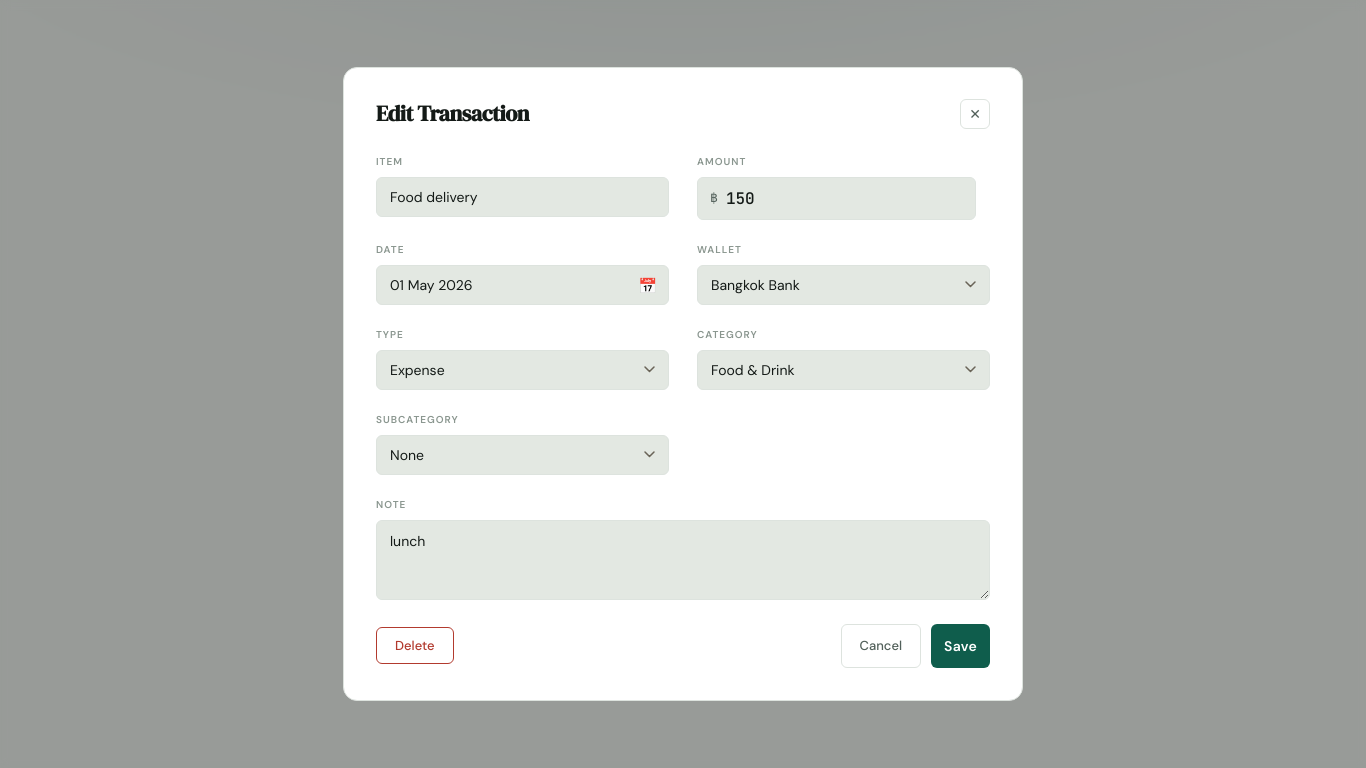
Scenario: shows delete confirmation when Delete is clicked
This screenshot has width=1366, height=768.
Click the button "Delete". click: x=415, y=646
box: [376,627,454,664]
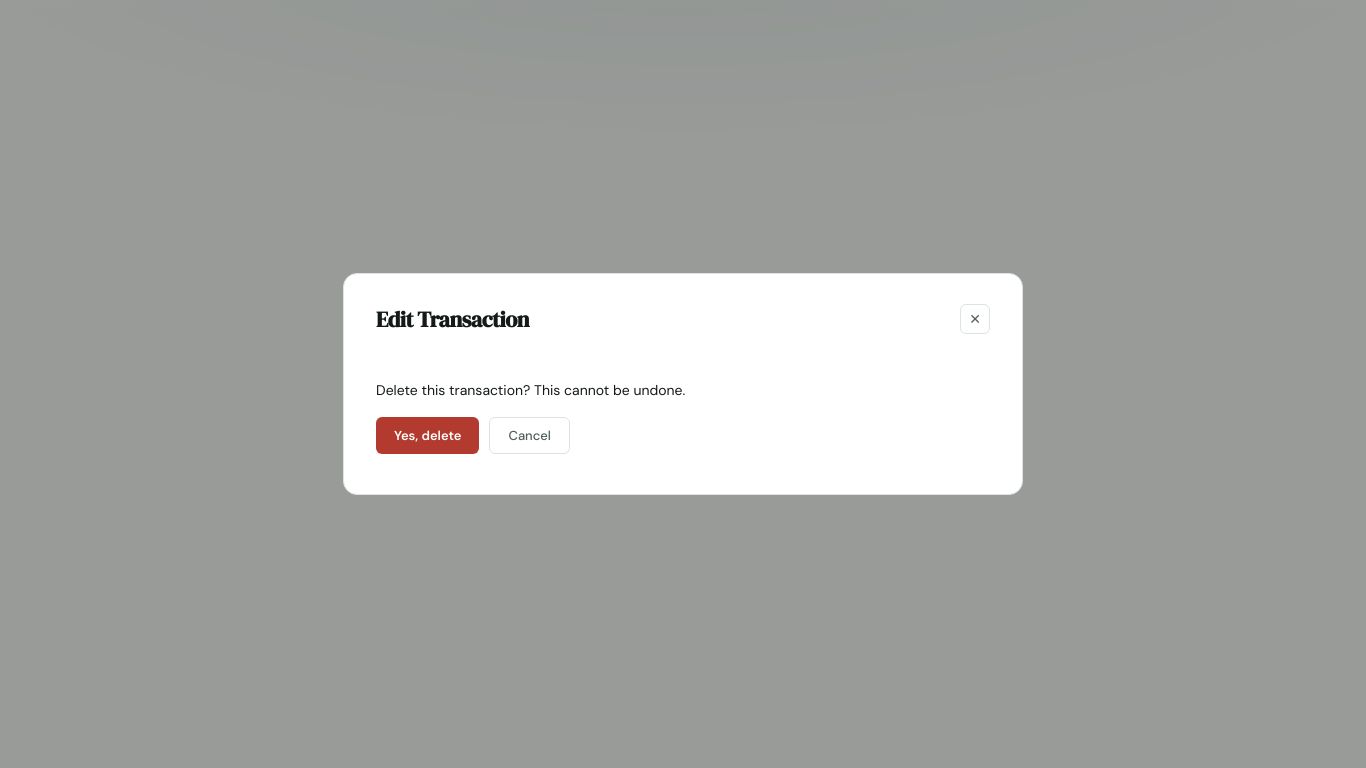
Check: the text "Delete this transaction? This cannot be undone." is shown, box [376,381,685,399]
